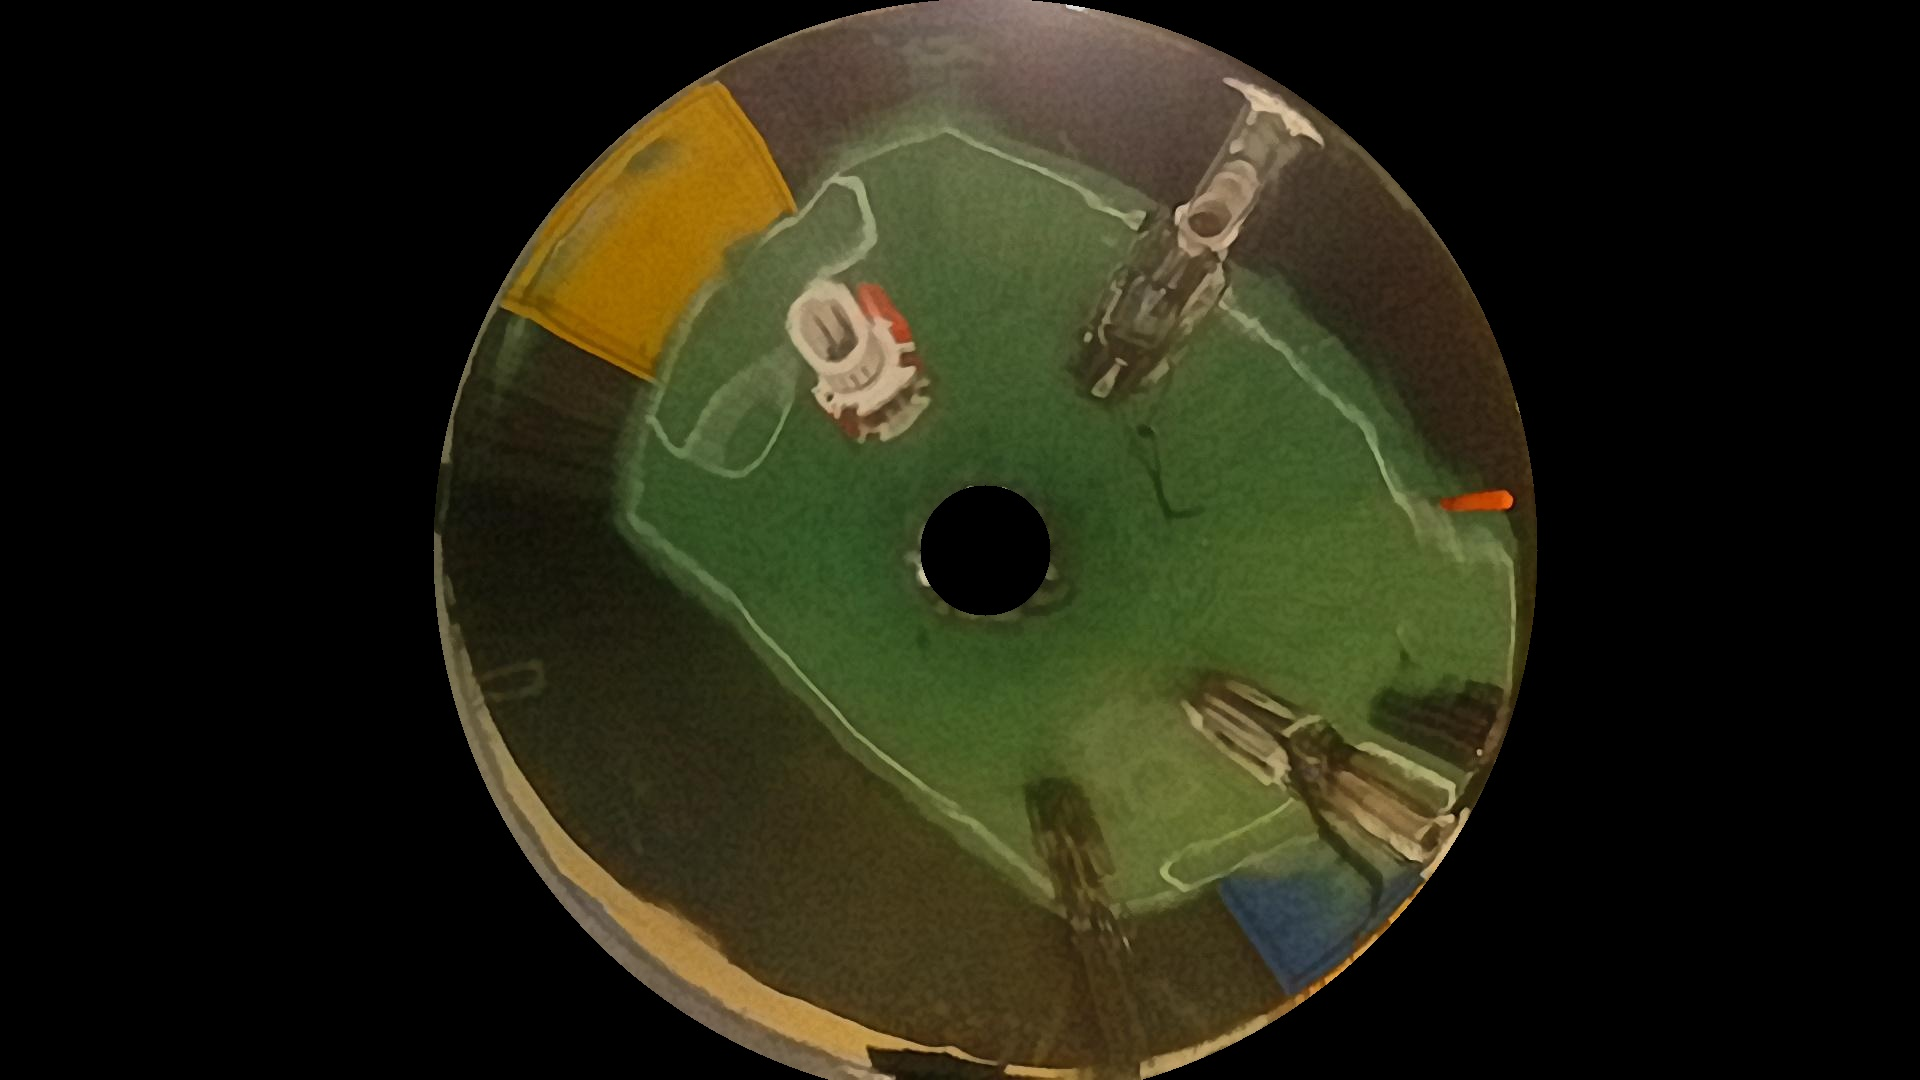ball: (1444, 491, 1510, 510)
blue-goal: (1218, 837, 1410, 985)
robots: (1095, 113, 1247, 393), (1191, 674, 1420, 831), (787, 274, 932, 446), (1033, 790, 1134, 1015), (1382, 667, 1505, 757)
yellow-goal: (512, 78, 796, 380)
